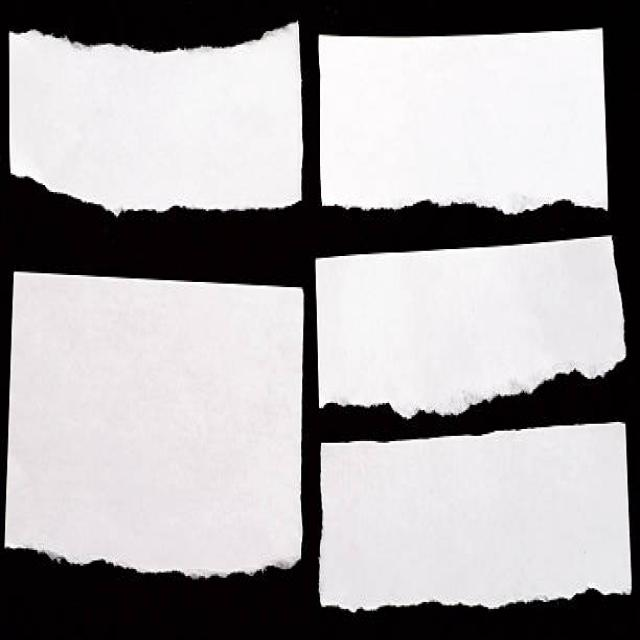electronic: (4, 268, 303, 578), (318, 419, 632, 612), (8, 19, 304, 213), (314, 233, 626, 417), (316, 26, 608, 214)
